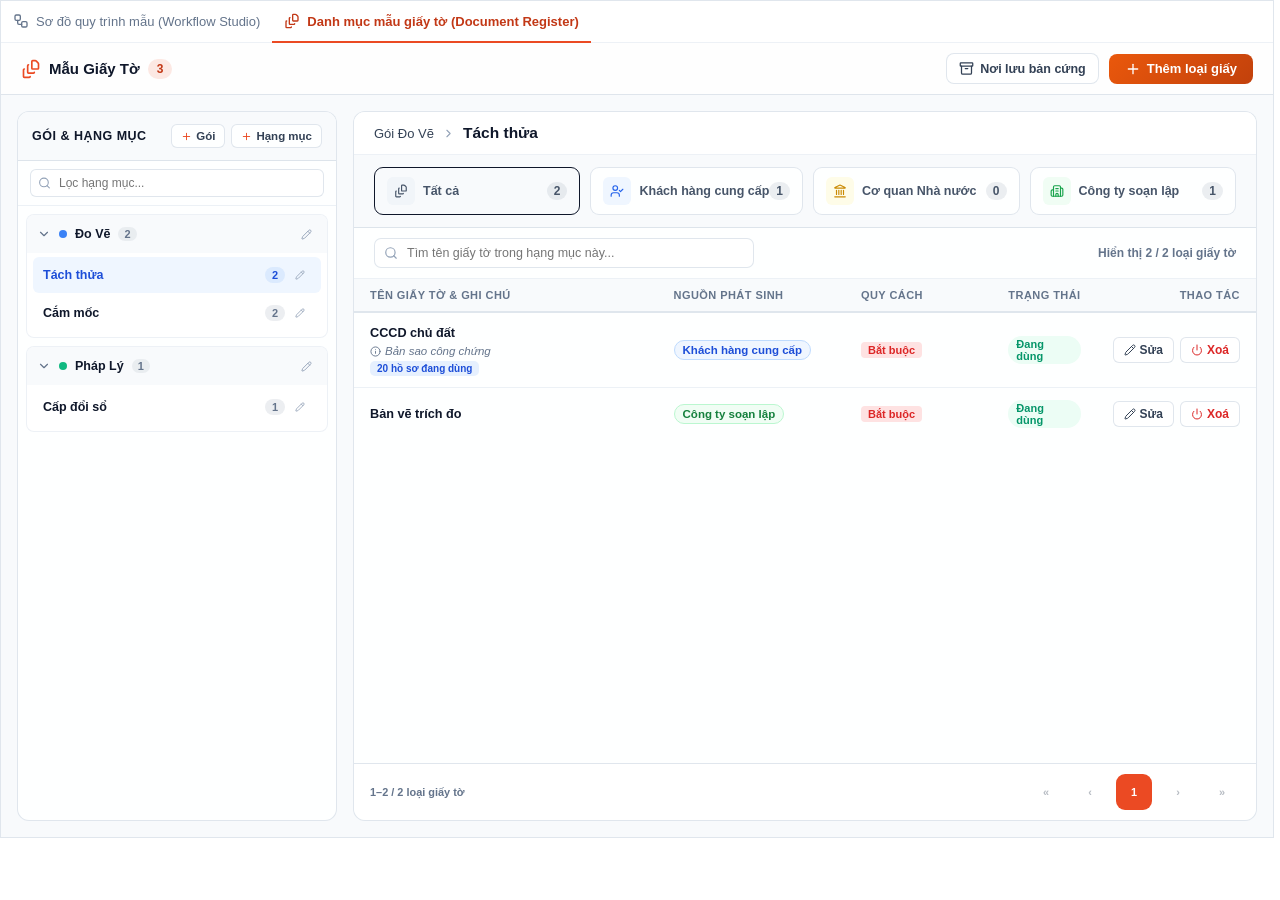
Test case: DocumentTemplateSettings — Bố cục 2 vùng Enterprise › bấm Sửa trên một dòng mở modal sửa thông tin loại giấy
expect the heading "Tách thửa" is shown: met, box [463,124,538,142]
Click the button "Sửa" in the row of "CCCD chủ đất". click: (1143, 350)
box: [1113,337,1174,363]
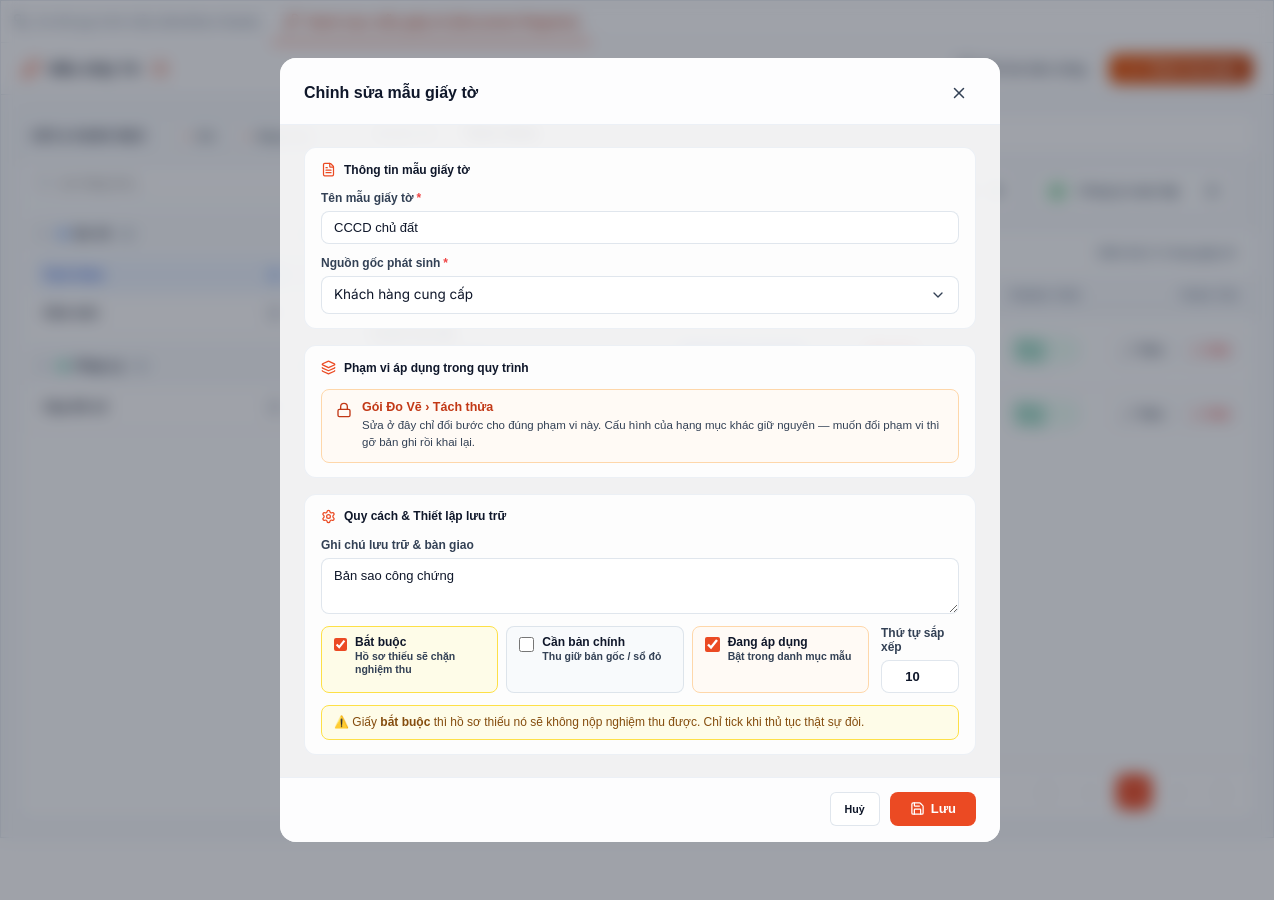
expect the field showing "CCCD chủ đất" is shown: met, box [321,211,959,244]
